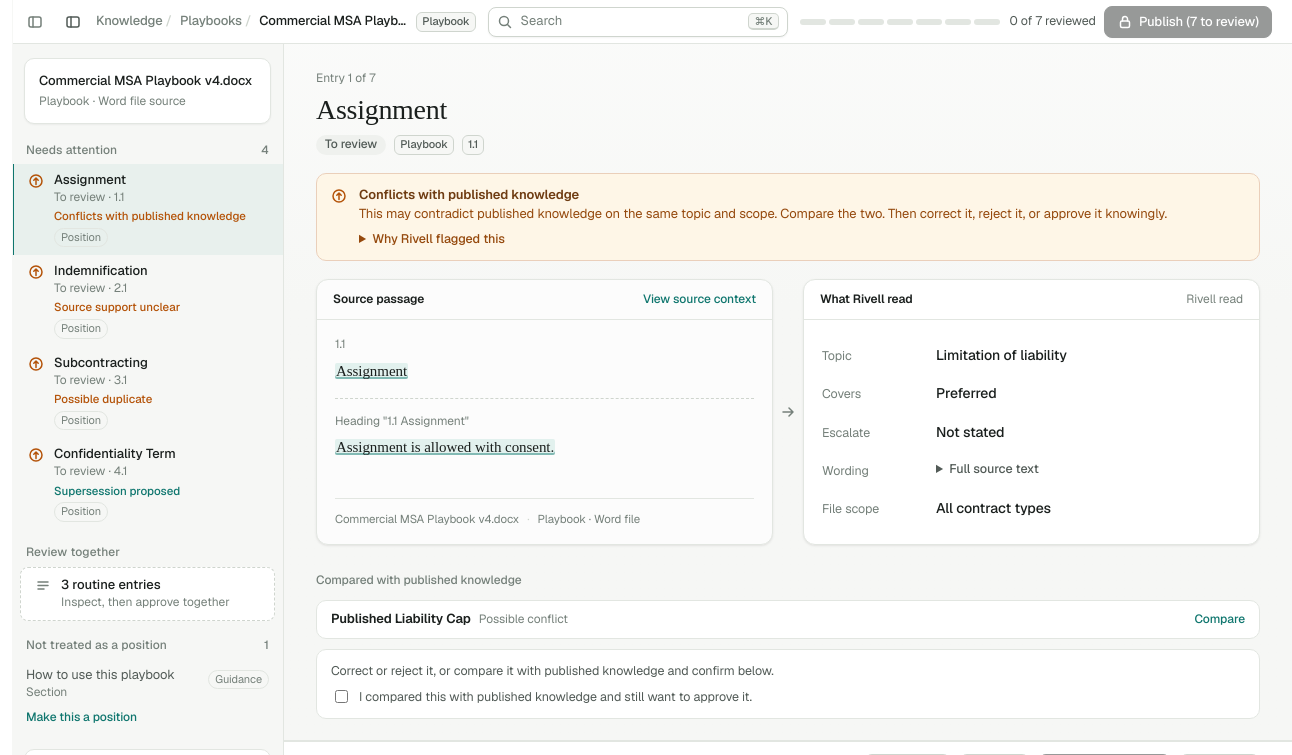
Test case: conflict › compares with the published knowledge using the real id the server gave
This screenshot has width=1292, height=755.
Expected: the heading "Assignment" is shown, [316,94,447,125]
Expected: the text "Published Liability Cap" is shown, [331,610,471,627]
Click the button "Compare" at (1220, 620), box [1194,611,1245,628]
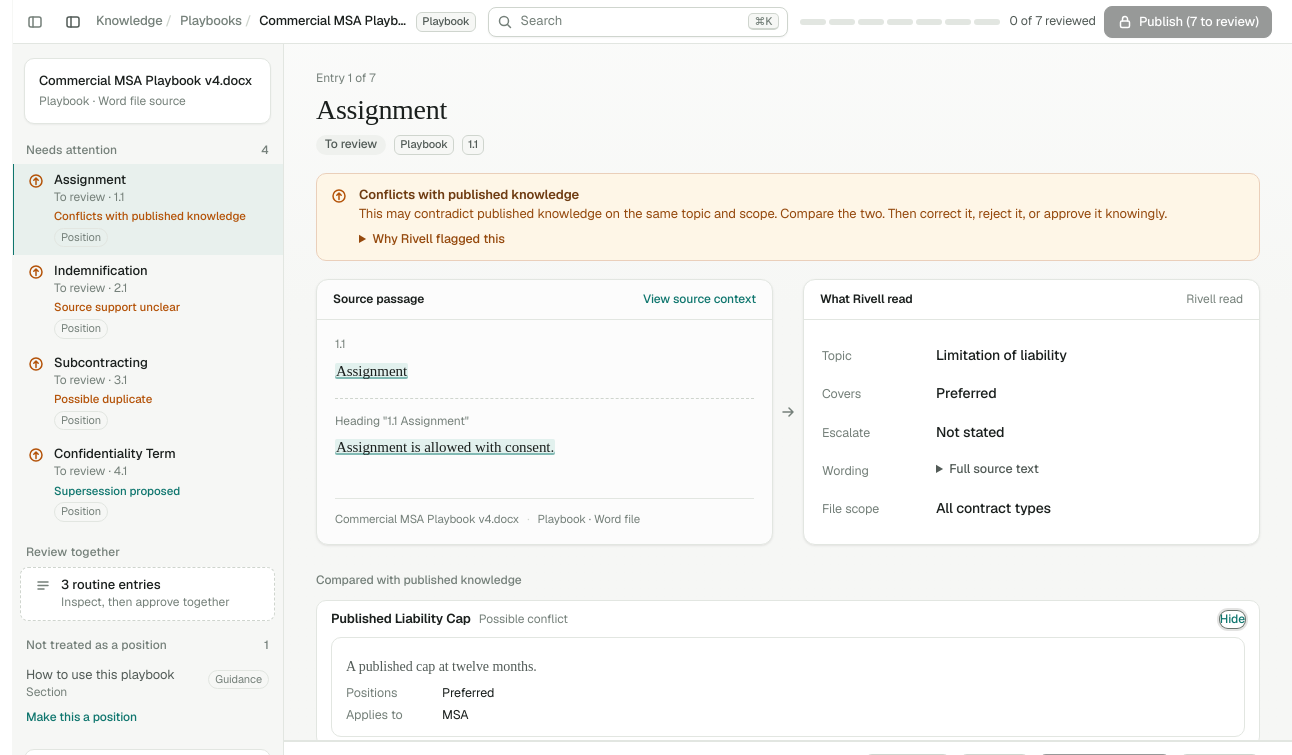
Result: the text "A published cap at twelve months." is shown at [346,659,537,674]
